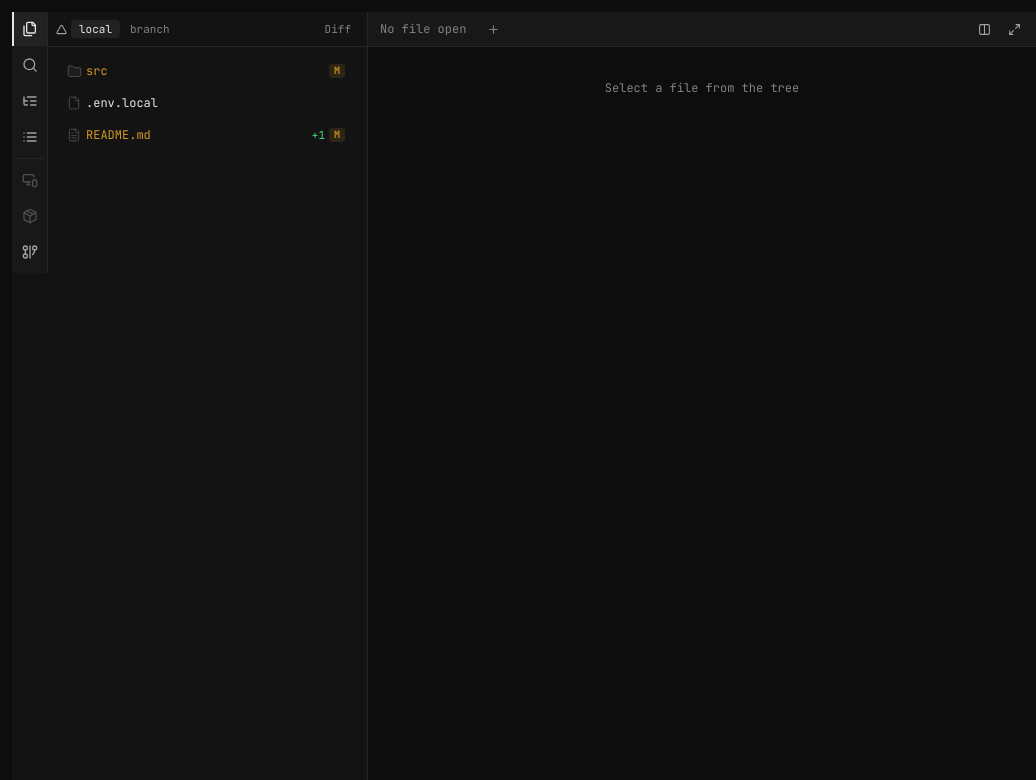
Test: ToolPanel › §3.f — renders split-orientation toggle in top actions and toggles masterDetailVertical in store
The image size is (1036, 780).
Step 1. Click the button named "Switch to stacked layout" → (984, 30), box [970,16,998,44]
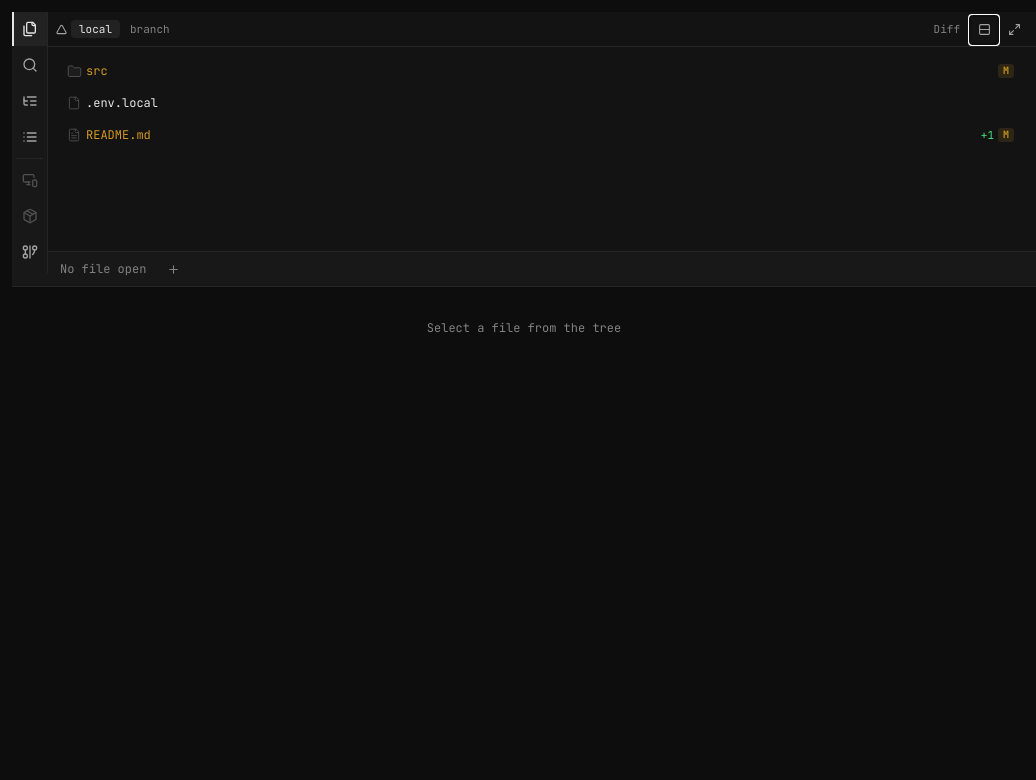
Now the button named "Switch to side-by-side layout" is shown, box [970,16,998,44]
